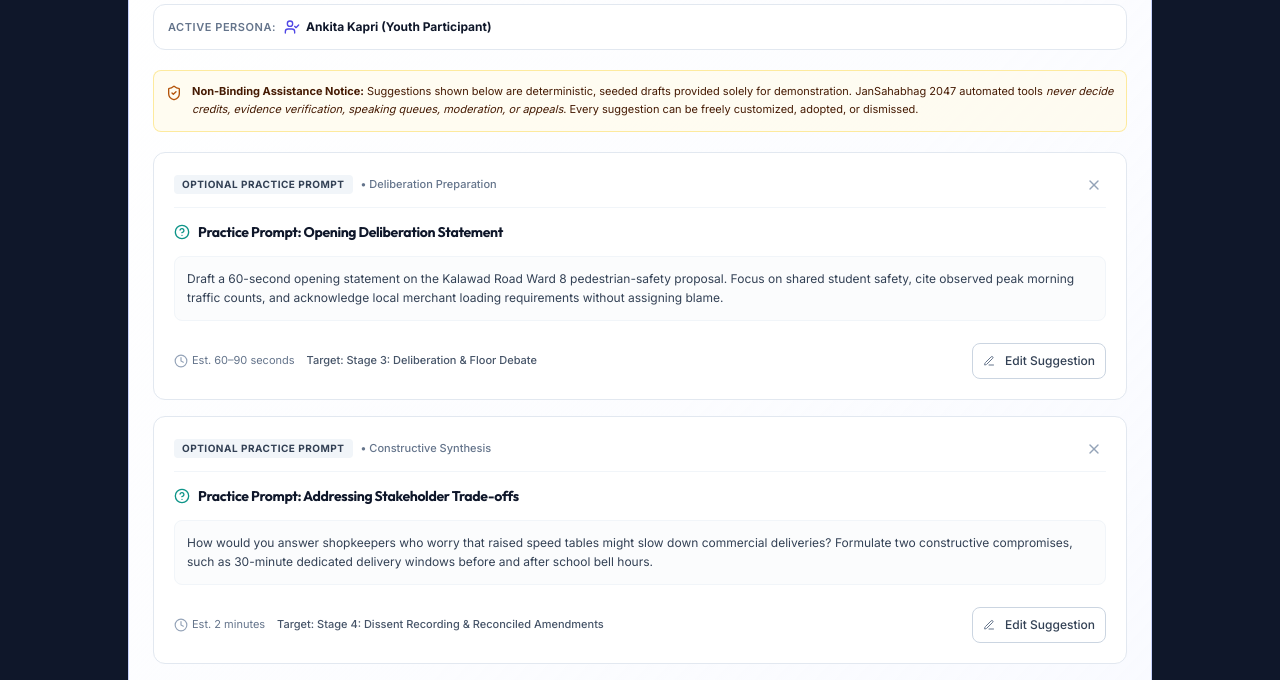
Change Plan v2 §15 & Review Additions #5: Role-Aware AI Mock › 5. Editable & Dismissible Suggestion Interactions › allows editing a suggestion in-place, saves the edit, and allows resetting back to seed
(page scrolled)
Click Edit button
Click the button with test id "btn-edit-sug_part_prompt_01" at (1039, 360), box [972,342,1106,378]
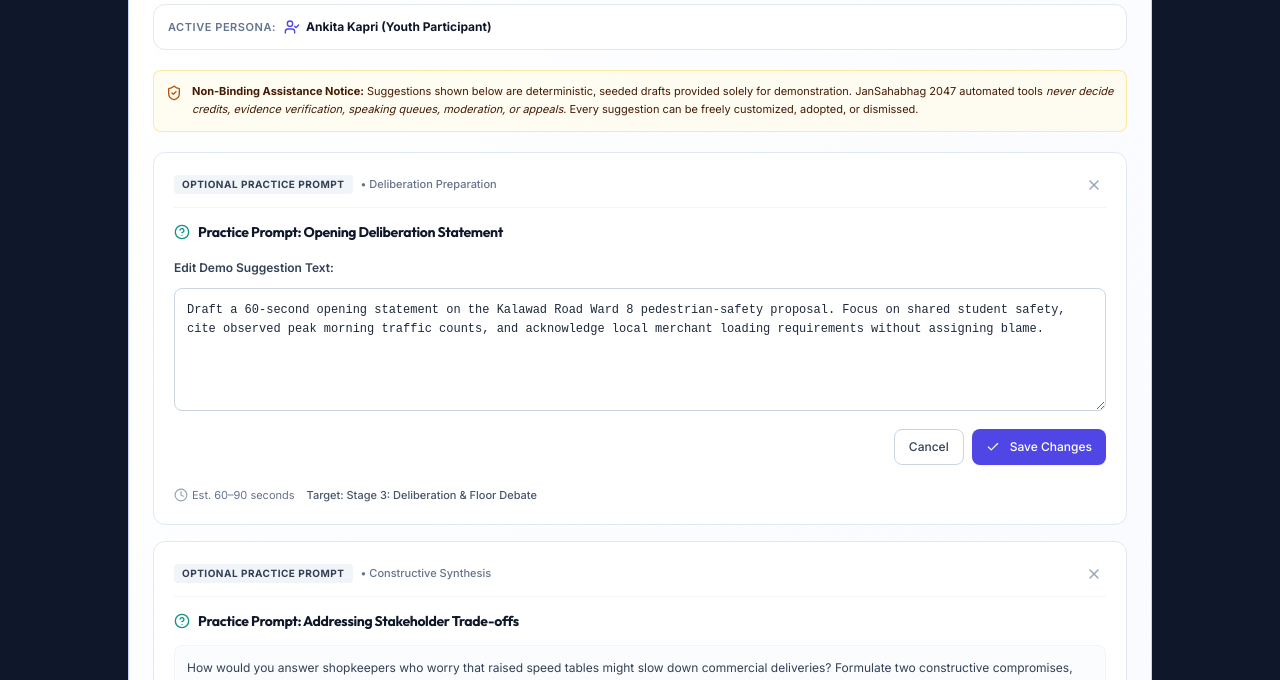
Check: the text box with test id "input-edit-sug_part_prompt_01" is shown
Modify the text
Replace the text in the text box with test id "input-edit-sug_part_prompt_01" with "Customized practice statement: Focus on pedestrian crossing at Gate 2." at (640, 349), box [174,288,1106,411]
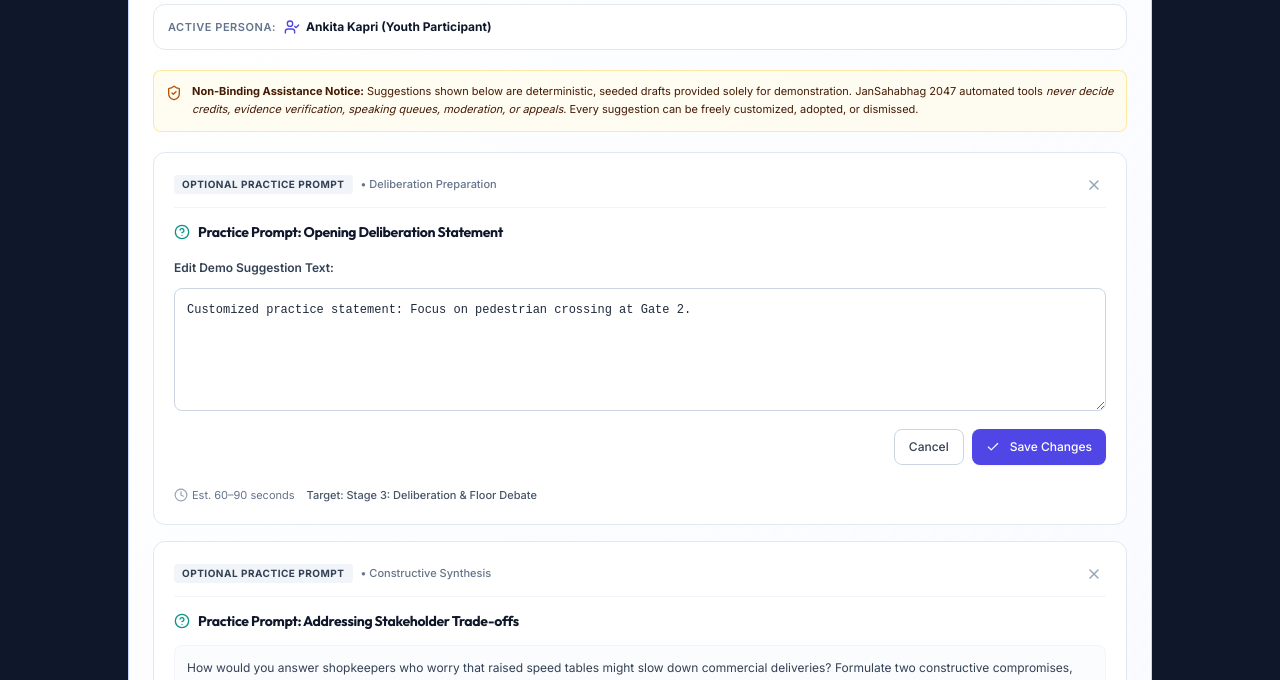
Save changes
Click the button with test id "btn-save-sug_part_prompt_01" at (1039, 447), box [972,429,1106,465]
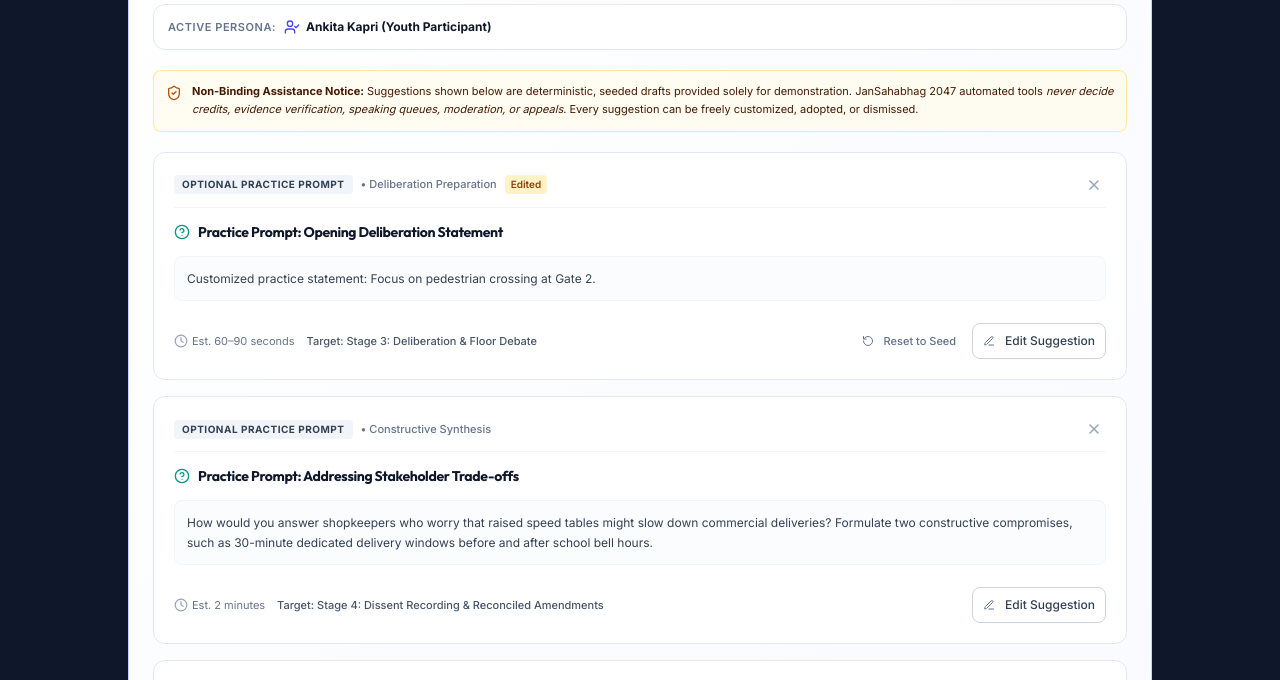
Check: the text "Customized practice statement: Focus on pedestrian crossing at Gate 2." is shown, box [174,256,1106,301]
Reset back to original seed
Click the button with test id "btn-reset-sug_part_prompt_01" at (909, 341), box [854,323,964,359]
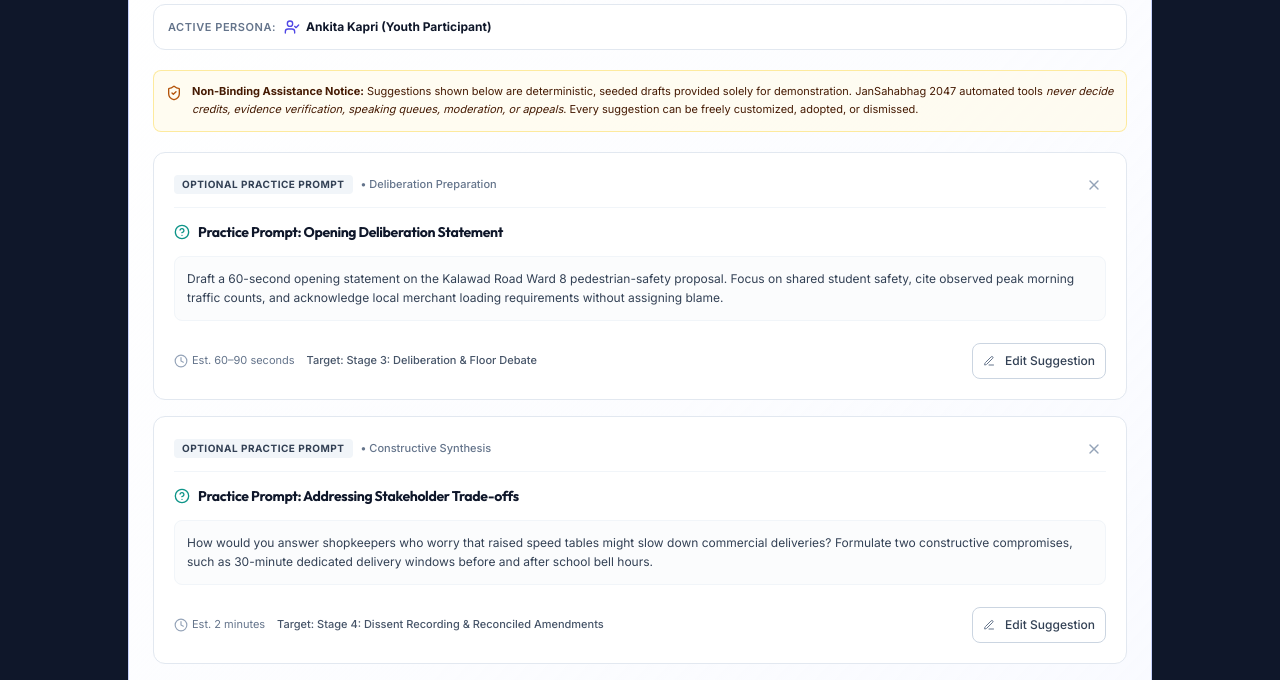
Check: the text "Draft a 60-second opening statement on the Kalawad Road Ward 8 pedestrian-safety proposal" is shown, box [187,270,1074,305]
